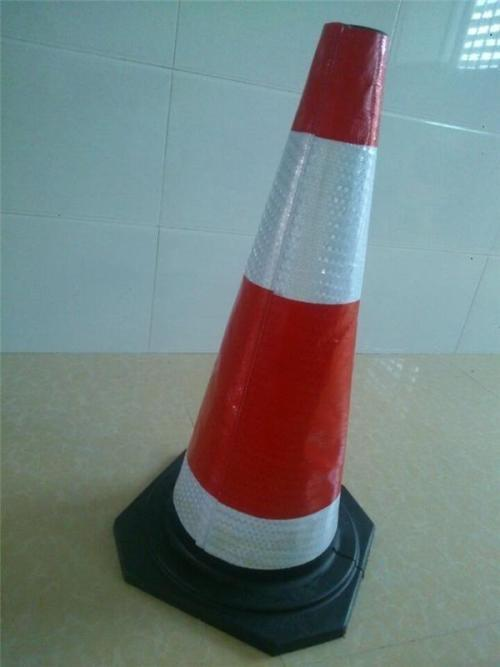cone_barrel: (160, 17, 405, 588)
